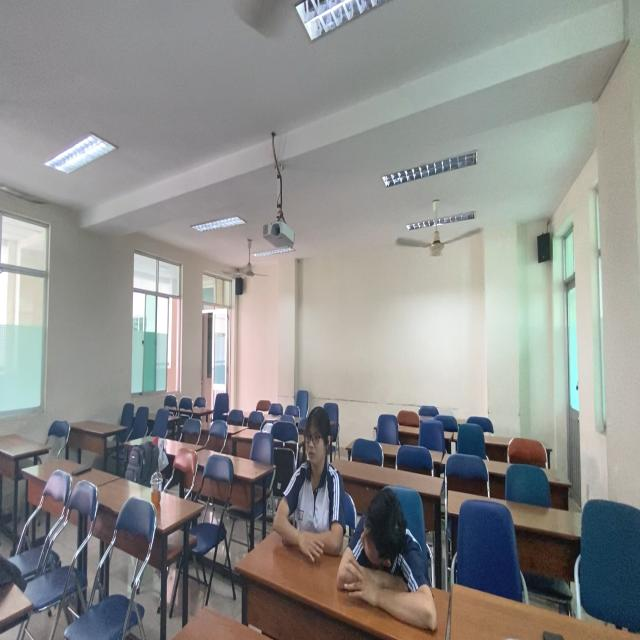sleep: (338, 476, 436, 640)
